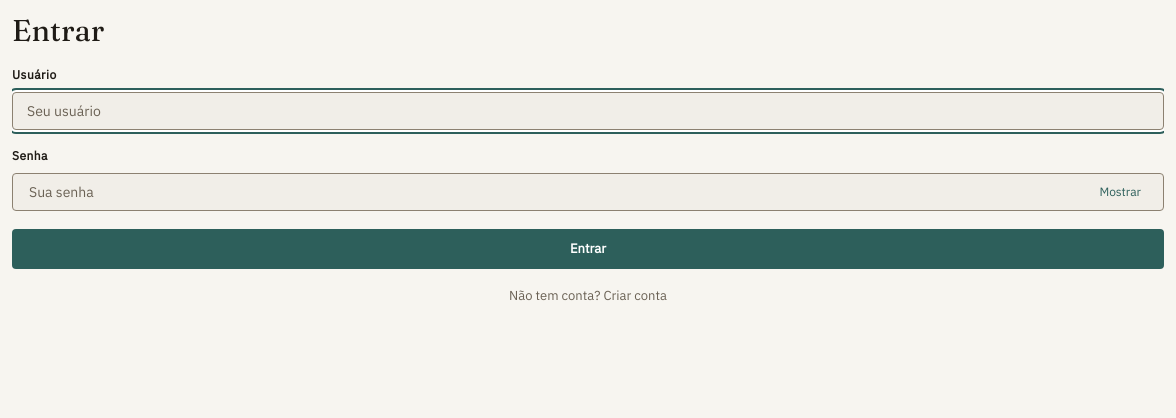
LoginForm › blocks submit and shows validation errors when both fields are empty
Step 1. Click the button "Entrar" → (588, 249), box [12,229,1164,269]
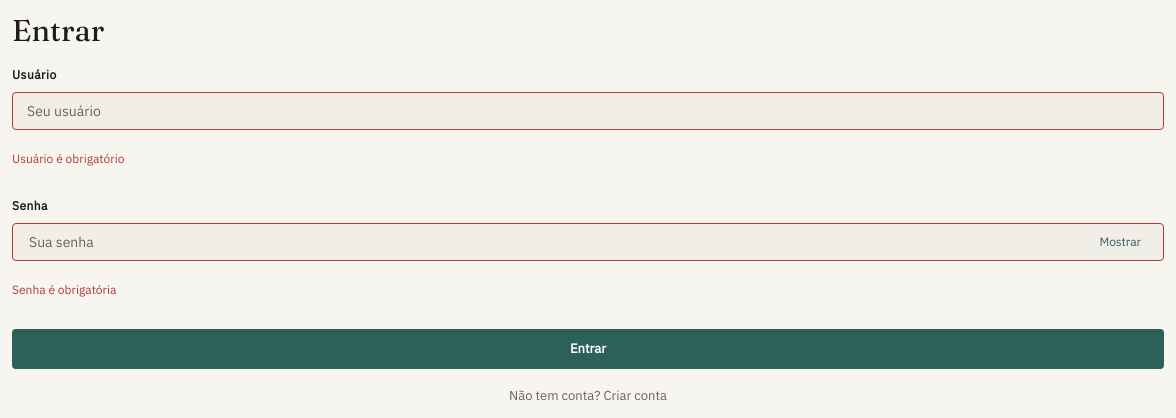
Result: the text "Usuário é obrigatório" is shown at [12,151,124,166]
Result: the text "Senha é obrigatória" is shown at [12,282,116,297]
